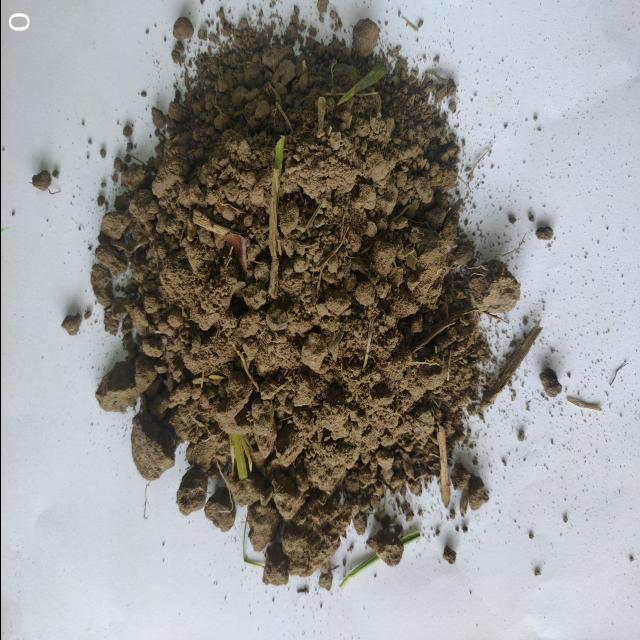soil: (175, 137, 416, 470)
